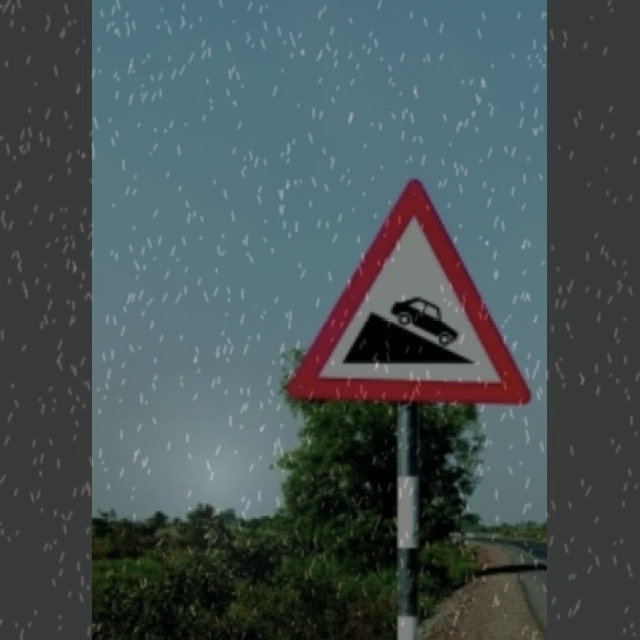Steep_Descent: (289, 181, 533, 405)
